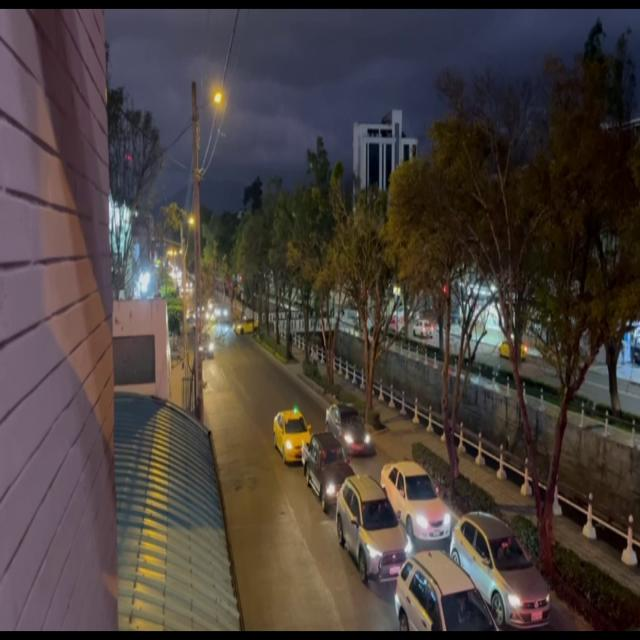CMT: (302, 434, 346, 498)
SUV: (398, 552, 487, 638), (336, 475, 401, 575), (326, 403, 368, 453)
